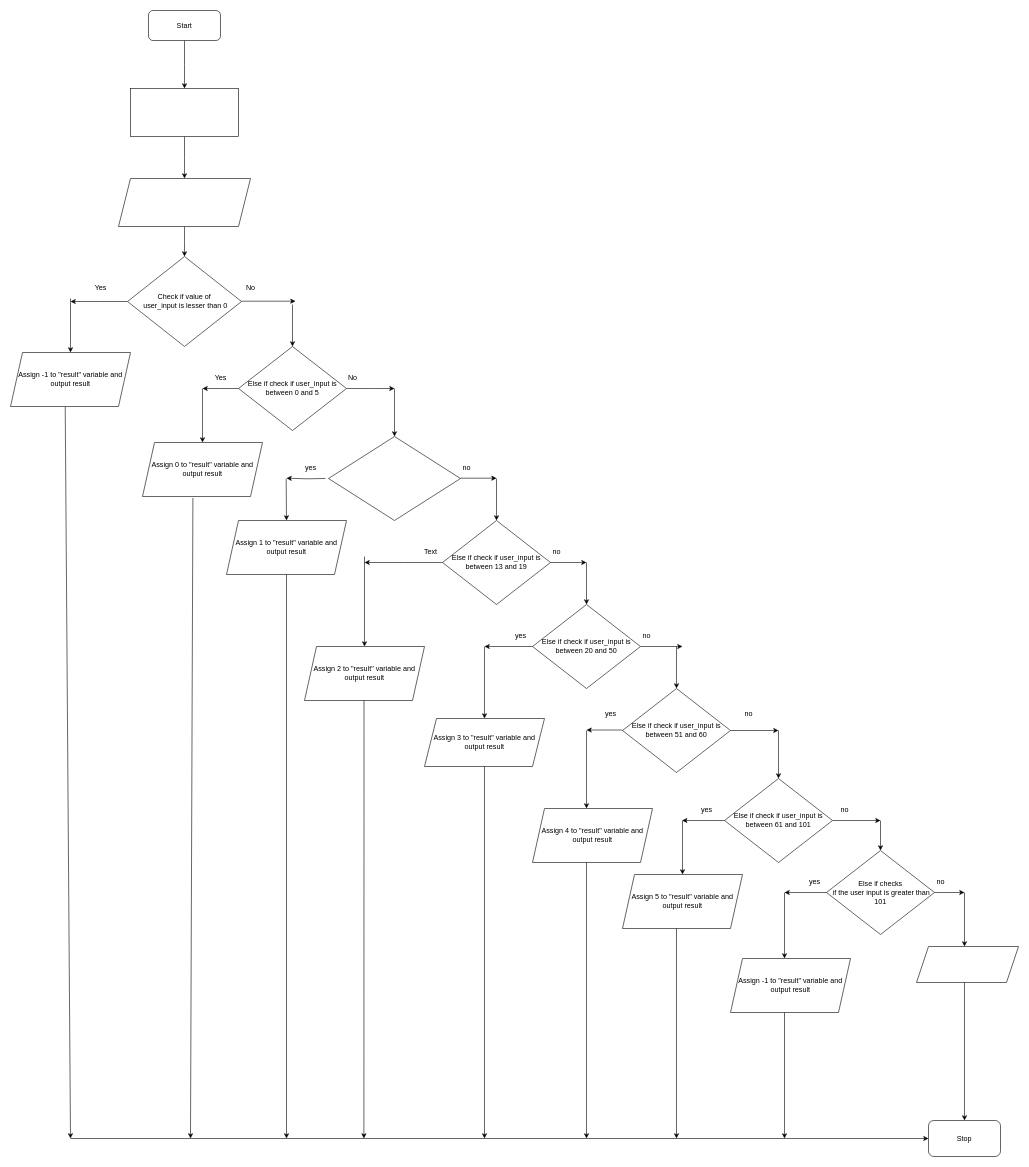
This 1029x1167 diagram has some shape labels left out. Here are the shapes that lost their labels. From the top down, the box of each, then its label:
(130, 88, 238, 136): Declare variables int datatype named "user_input" and "result"
(118, 178, 250, 226): Take input from user and assign the value to user_input
(328, 436, 460, 520): Else if check if user_input is between 6 and 12
(916, 946, 1018, 982): Else ouput "Invalid input"
